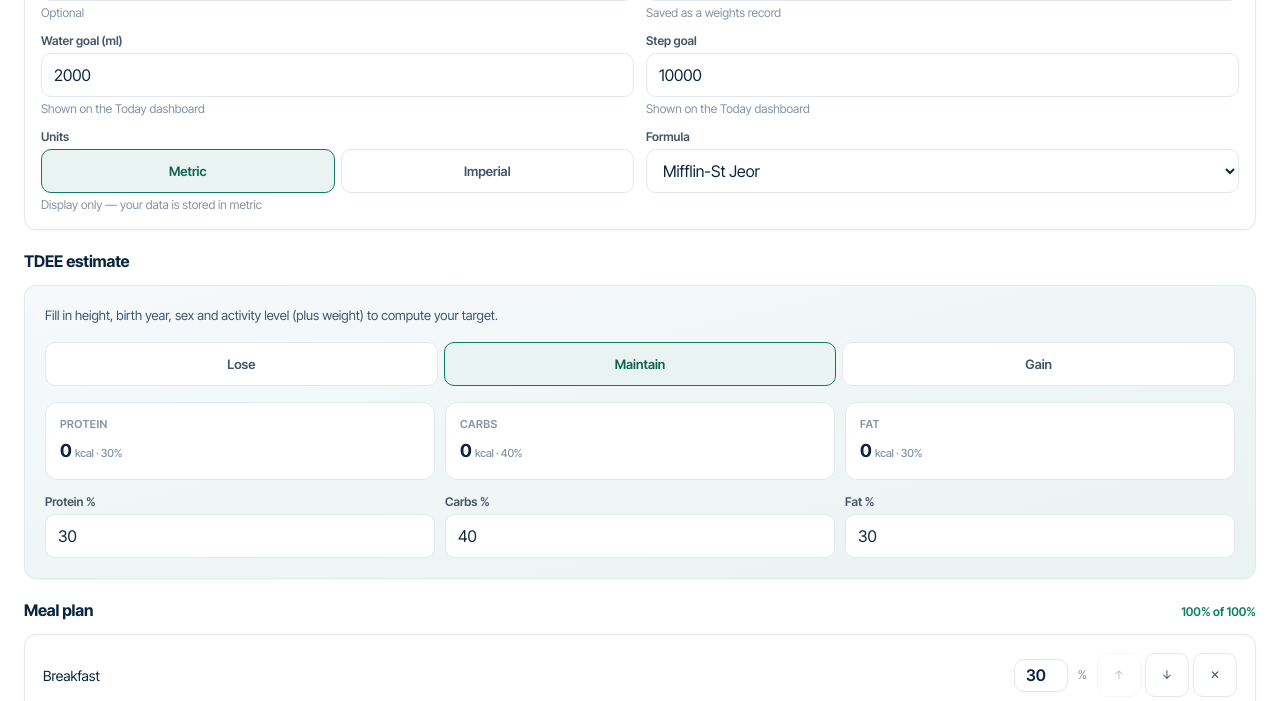
it: ProfileGoals — one save model › clears the unsaved marker once saved
(page scrolled)
Click the radio button labelled "Lose": {"x": 241, "y": 364} [45, 342, 438, 386]
(page scrolled)
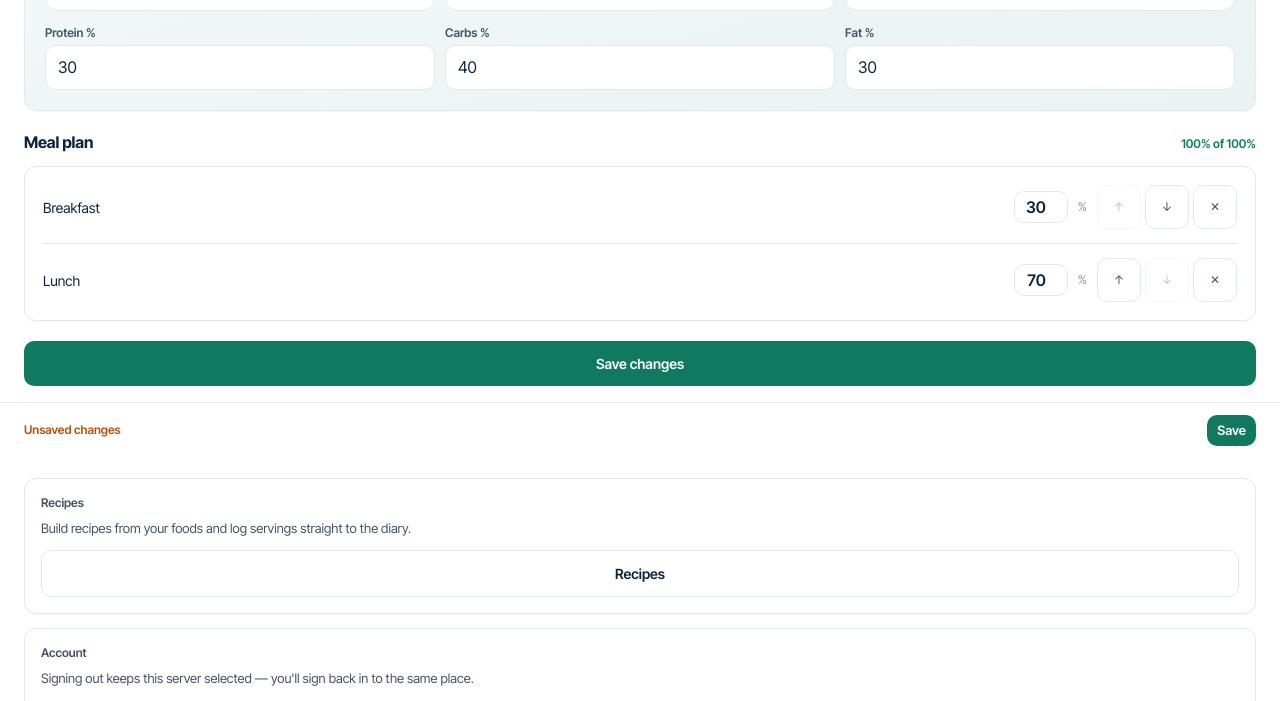
Check: the text "Unsaved changes" is shown, box [24, 422, 121, 438]
Click the button "Save changes": {"x": 640, "y": 364} [24, 341, 1256, 386]
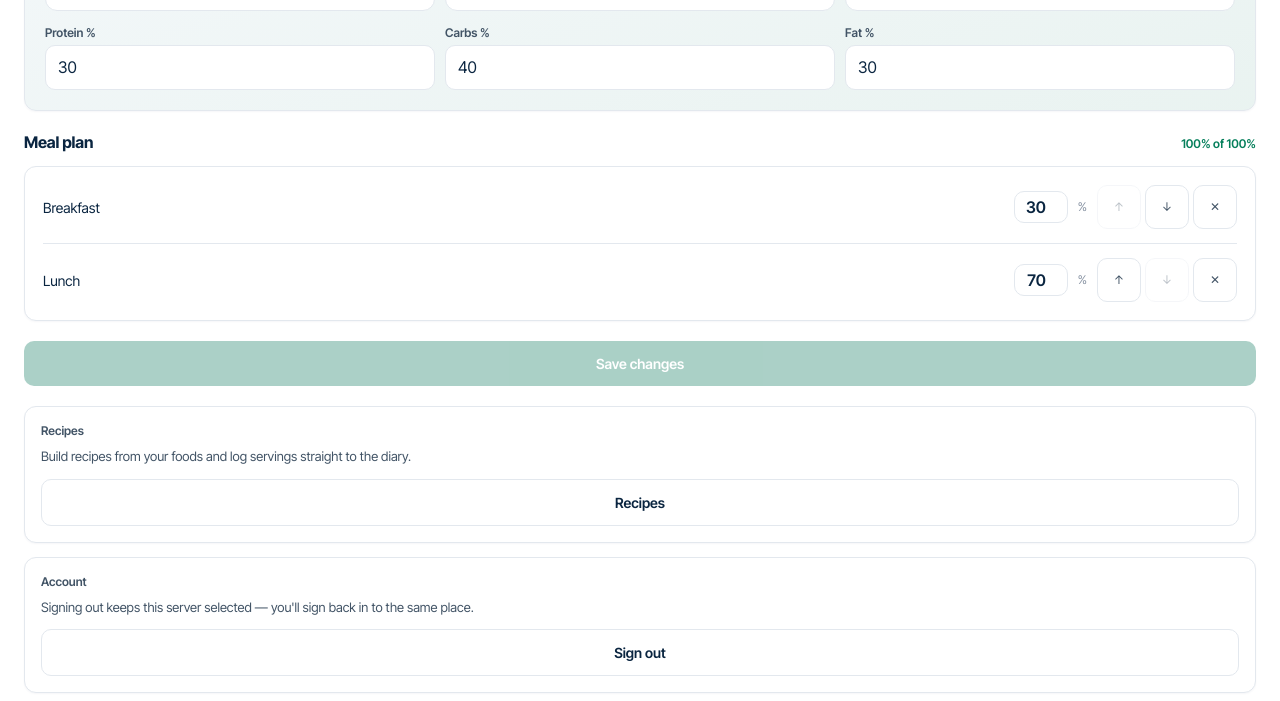
Check: the text "Unsaved changes" is gone
